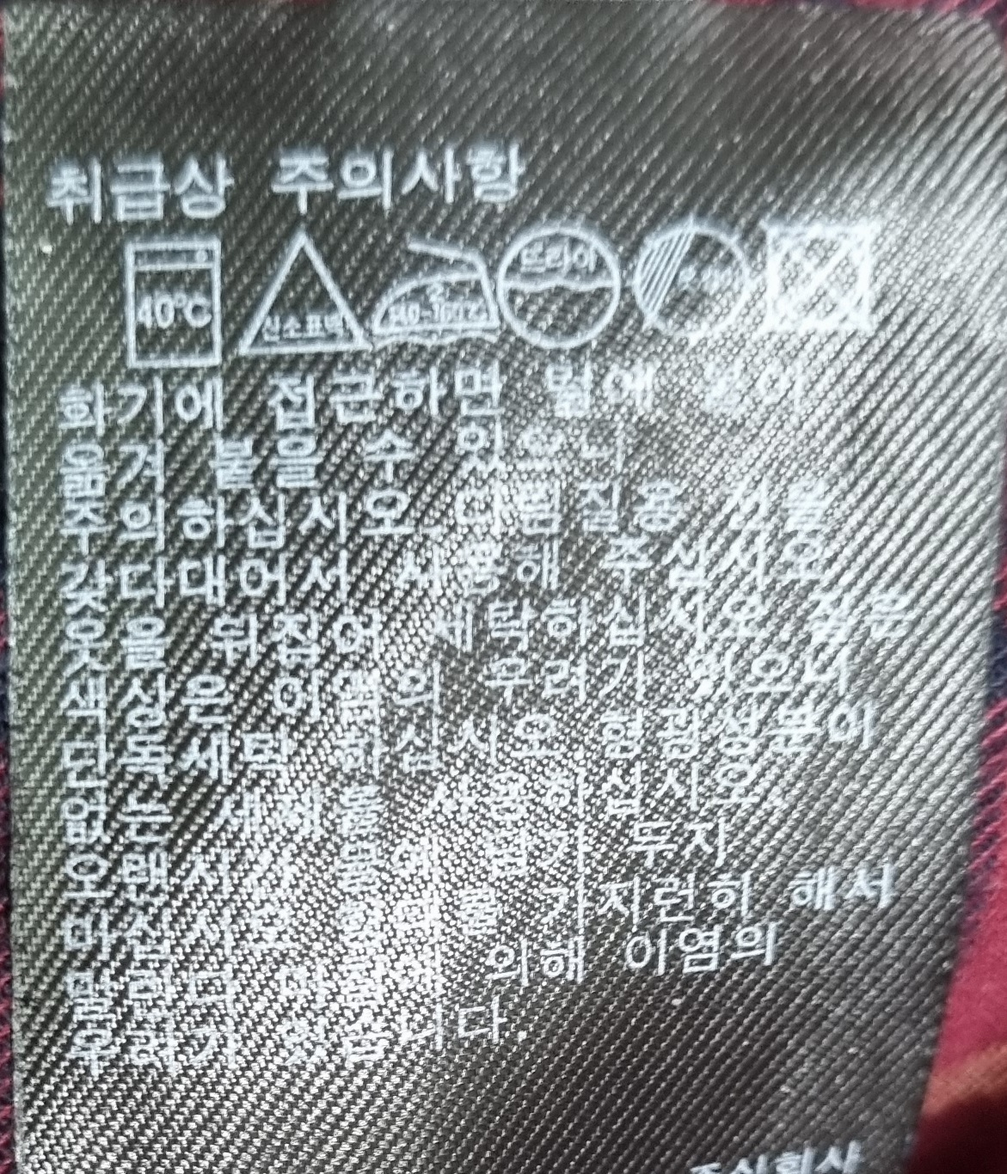KR_dry_clean: (498, 203, 627, 358)
KR_hang_dry_in_shade: (632, 222, 756, 339)
KR_iron_medium_temp_with_cloth: (369, 226, 501, 350)
KR_no_tumble_dry: (759, 217, 884, 341)
KR_oxygen_bleach: (230, 228, 369, 361)
KR_wash_40: (108, 226, 231, 376)
